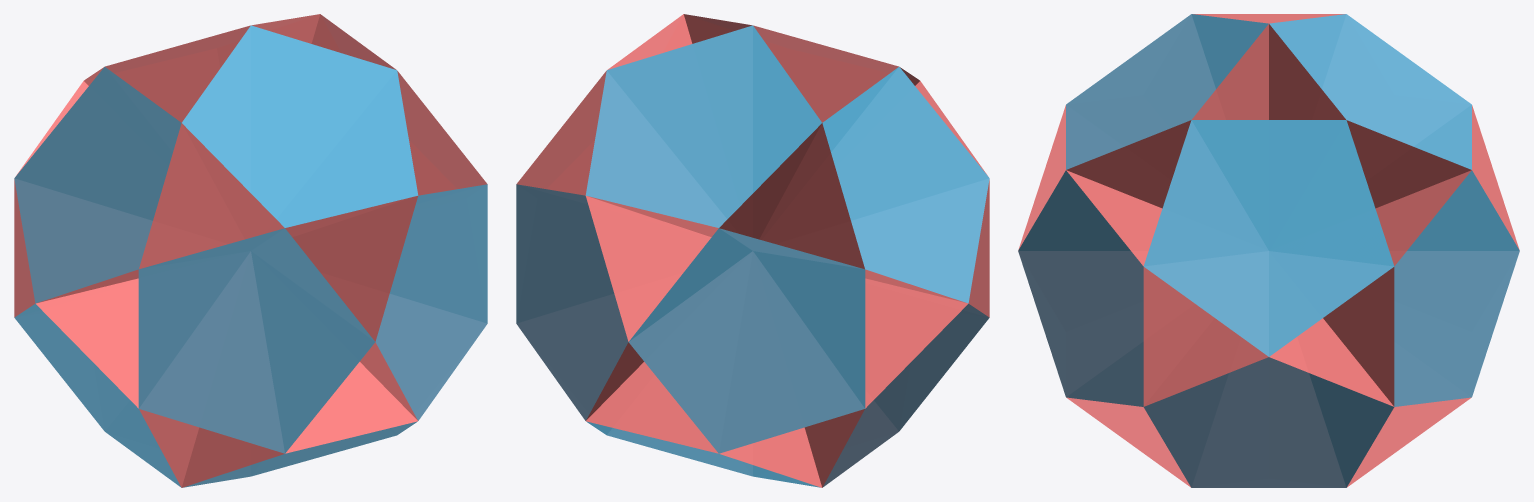
File: SmallDodecahemidodecahedron.obj
3 renders of one model, left to right at view 1: azimuth 30°, elevation 25°; view 2: azimuth 150°, elevation 25°; view 3: azimuth 270°, elevation 25°, orthographic.
Size of the model in its own units: 3.24 by 3.24 by 3.24.
